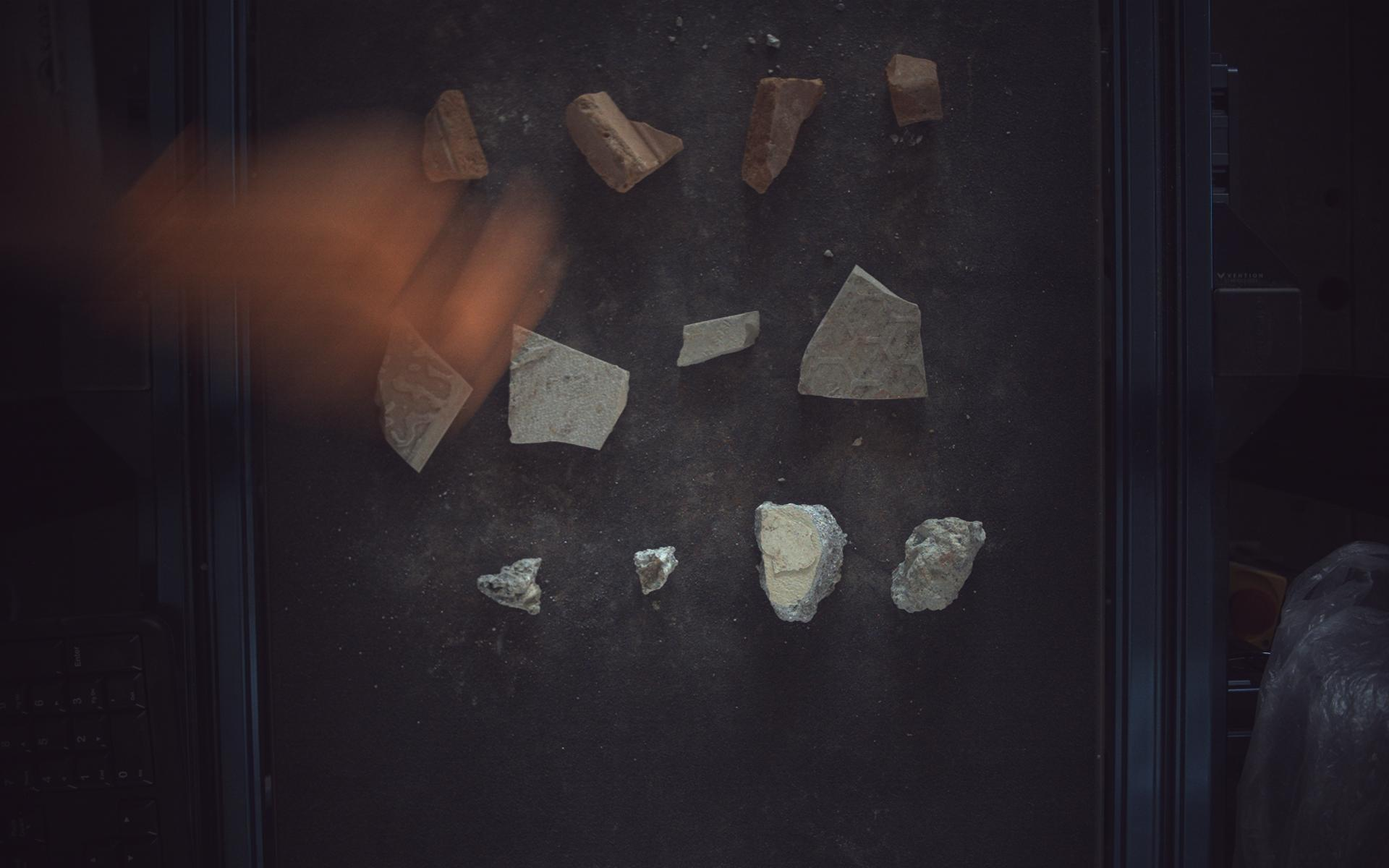brick: (566, 90, 684, 192), (743, 75, 826, 193), (424, 88, 488, 182), (888, 52, 945, 125)
concrete: (756, 502, 848, 623), (893, 517, 987, 613), (478, 558, 542, 616), (635, 548, 679, 595)
tile: (799, 265, 930, 399), (375, 308, 472, 472), (509, 325, 630, 450), (678, 311, 761, 367)
